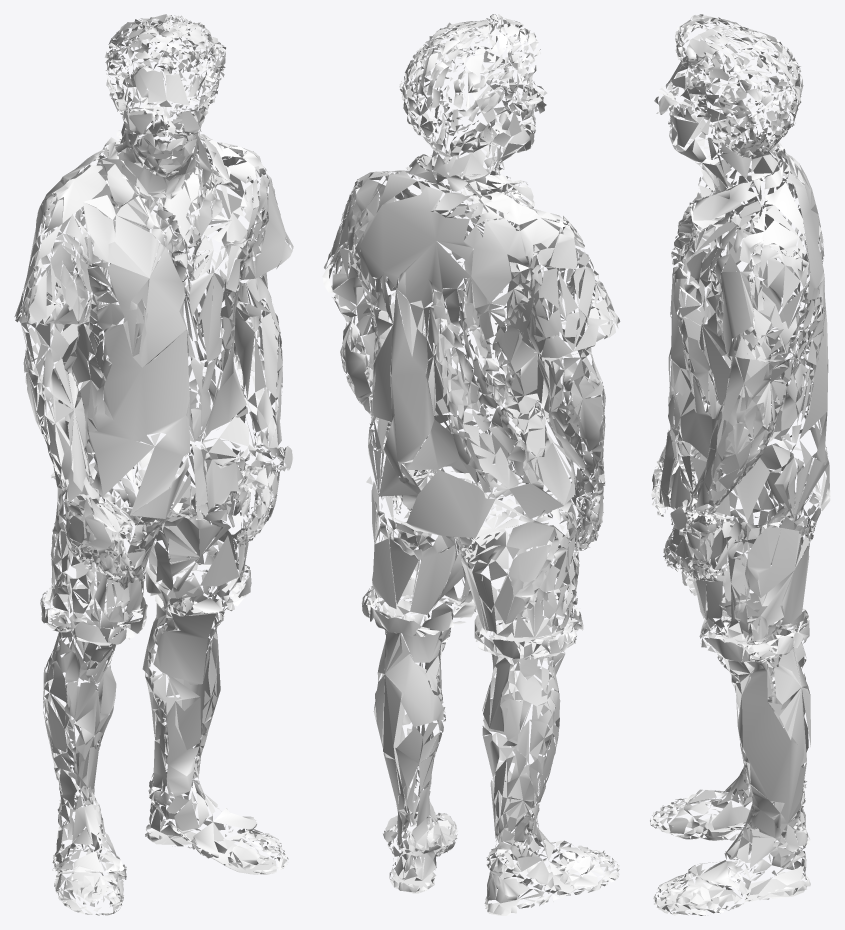
The model's file is beach-tourist-man.glb.
3 views of the same model, side by side, from view 1: azimuth 30°, elevation 25°; view 2: azimuth 150°, elevation 25°; view 3: azimuth 270°, elevation 25° (orthographic).
Visible parts, largest first — view 1: model; view 2: model; view 3: model.
Boxes of the visible parts, x1,y1,x2,y2 form: model: (14, 14, 293, 915); model: (322, 14, 620, 915); model: (650, 14, 830, 915).
Bounding box in the file's own units: 0.6556 × 1.9 × 0.368.
1 material, 1 textured.
